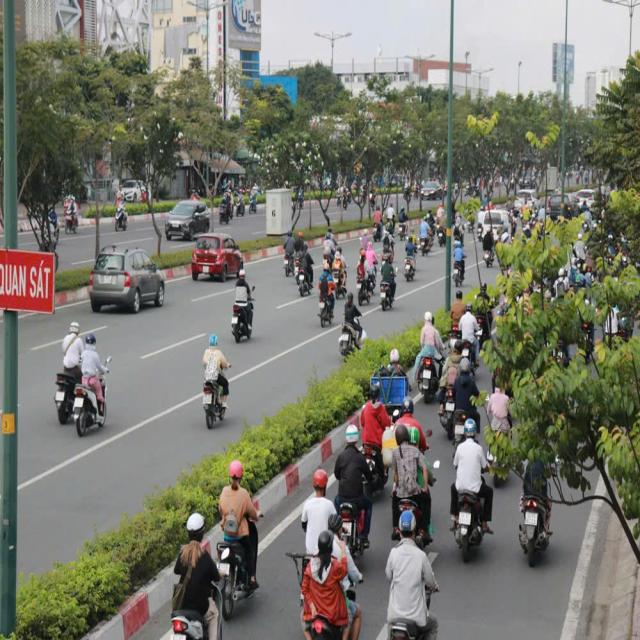car: (198, 220, 249, 282), (480, 201, 514, 249), (420, 172, 444, 203)
motobyte: (216, 452, 267, 624), (383, 508, 442, 640), (388, 396, 436, 549), (450, 414, 495, 560), (332, 416, 376, 561), (519, 441, 555, 566), (201, 329, 235, 434), (362, 378, 390, 498), (448, 356, 482, 451), (414, 306, 443, 401), (228, 264, 260, 348), (339, 288, 370, 364), (460, 299, 483, 377), (316, 260, 337, 331), (378, 246, 399, 312), (294, 240, 316, 298), (403, 234, 420, 285), (452, 241, 468, 290), (282, 223, 295, 275)
